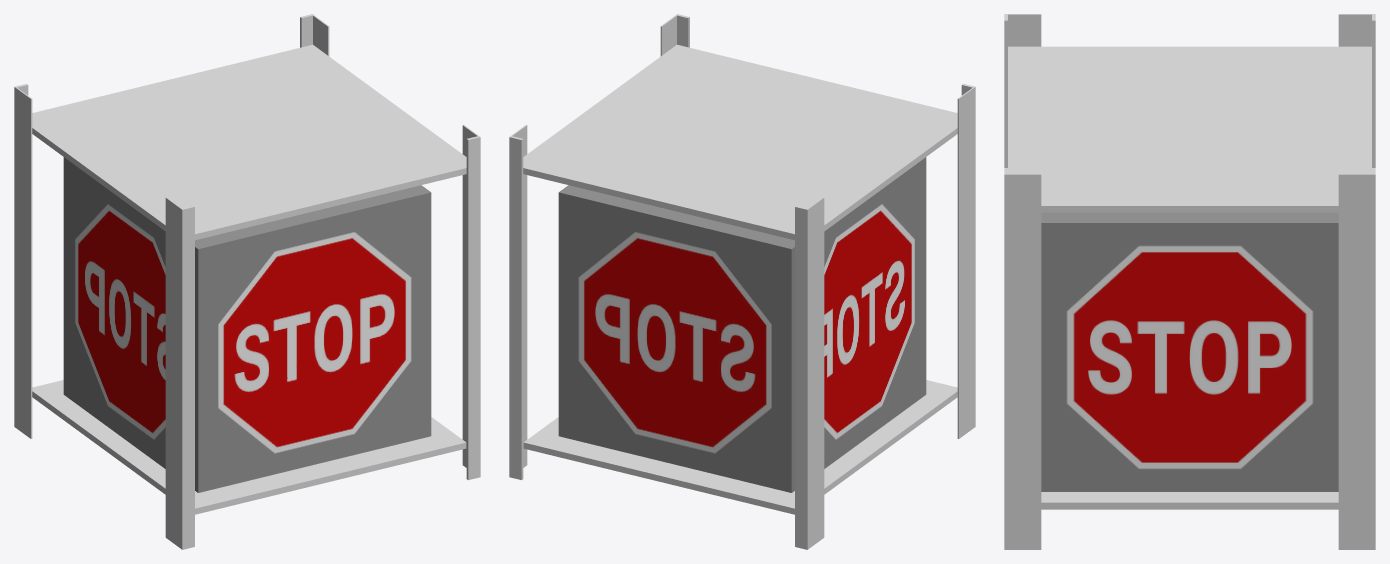
Rendered from shelf_stop.dae.
The picture shows the model from 3 angles, left to right: view 1: azimuth 30°, elevation 25°; view 2: azimuth 150°, elevation 25°; view 3: azimuth 270°, elevation 25°; orthographic projection. The views are drawn at different scales.
Visible parts, largest first — view 1: Cube.001, Family2 Family2 [5175], Extrusion [3348], Family2 Family2 [5206]; view 2: Cube.001, Family2 Family2 [5175], Extrusion [3348], Family2 Family2 [5206]; view 3: Cube.001, Family2 Family2 [5175], Extrusion [3348], Family2 Family2 [5206].
Boxes of the visible parts, x1=… form: Cube.001: x1=63, y1=157, x2=431, y2=492; Family2 Family2 [5175]: x1=32, y1=44, x2=466, y2=240; Extrusion [3348]: x1=14, y1=14, x2=480, y2=549; Family2 Family2 [5206]: x1=32, y1=380, x2=466, y2=514; Cube.001: x1=558, y1=157, x2=926, y2=492; Family2 Family2 [5175]: x1=523, y1=44, x2=957, y2=240; Extrusion [3348]: x1=509, y1=14, x2=975, y2=549; Family2 Family2 [5206]: x1=523, y1=380, x2=957, y2=514; Cube.001: x1=1041, y1=212, x2=1338, y2=491; Family2 Family2 [5175]: x1=1008, y1=46, x2=1371, y2=212; Extrusion [3348]: x1=1004, y1=14, x2=1375, y2=549; Family2 Family2 [5206]: x1=1041, y1=492, x2=1338, y2=509.
Size of the model in its own units: 0.5118 by 0.5 by 0.5577.
Materials: 1 (1 with a texture image).
